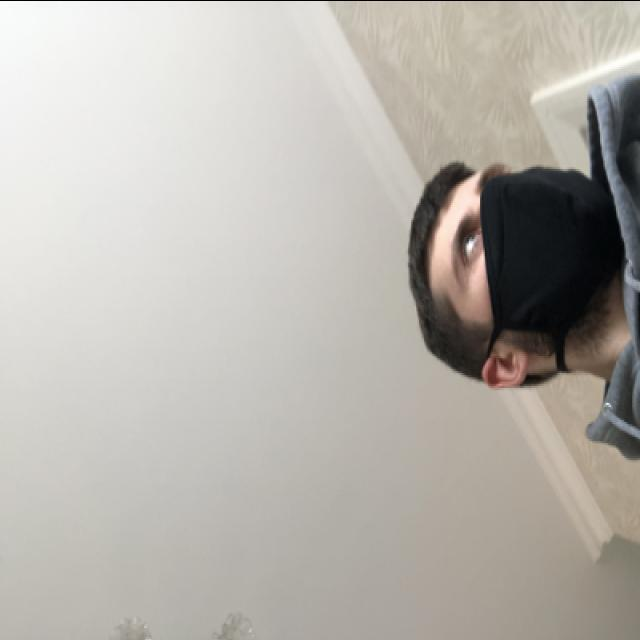with_mask: (447, 164, 618, 340)
